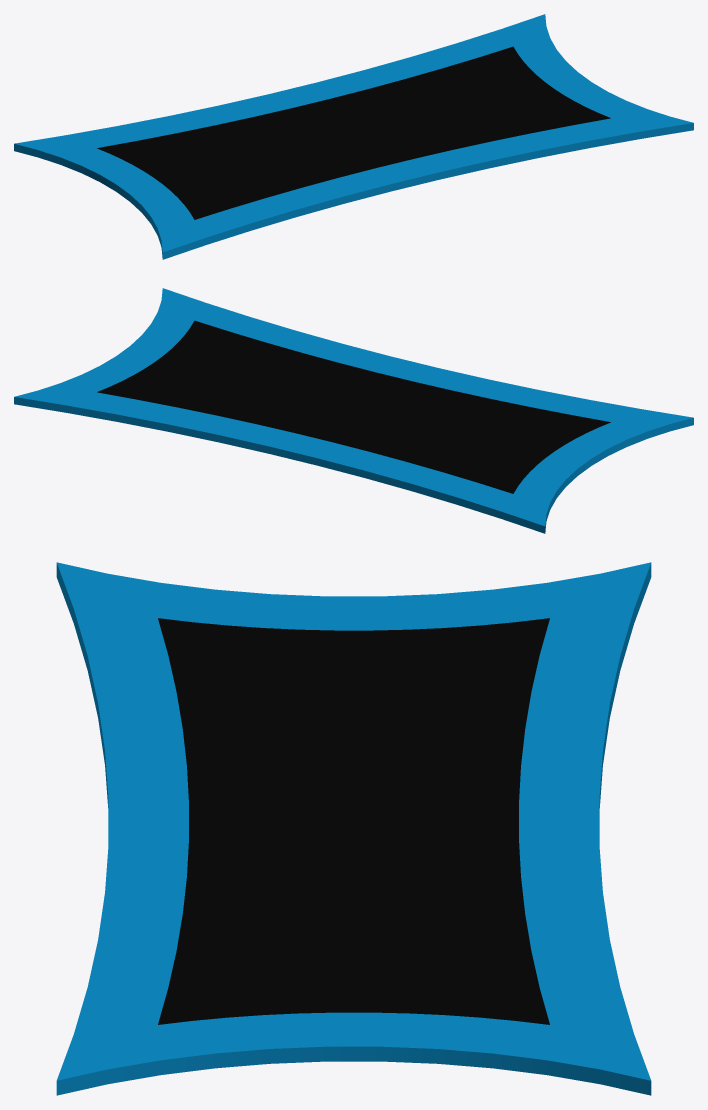
File: mirror_fbx.FBX
3 renders of one model, top to bottom at view 1: azimuth 30°, elevation 25°; view 2: azimuth 150°, elevation 25°; view 3: azimuth 270°, elevation 25°, orthographic. The views are drawn at different scales.
Visible parts, largest first — view 1: Line001, Layer:M18; view 2: Line001, Layer:M18; view 3: Line001, Layer:M18.
Part boxes in pixels (x1,y1,x2,y2): Line001: (97, 46, 610, 219); Layer:M18: (14, 14, 693, 259); Line001: (97, 320, 610, 493); Layer:M18: (14, 288, 693, 533); Line001: (158, 618, 549, 1024); Layer:M18: (56, 562, 651, 1095).
Bounding box in the file's own units: 150 × 2 × 72.54.
